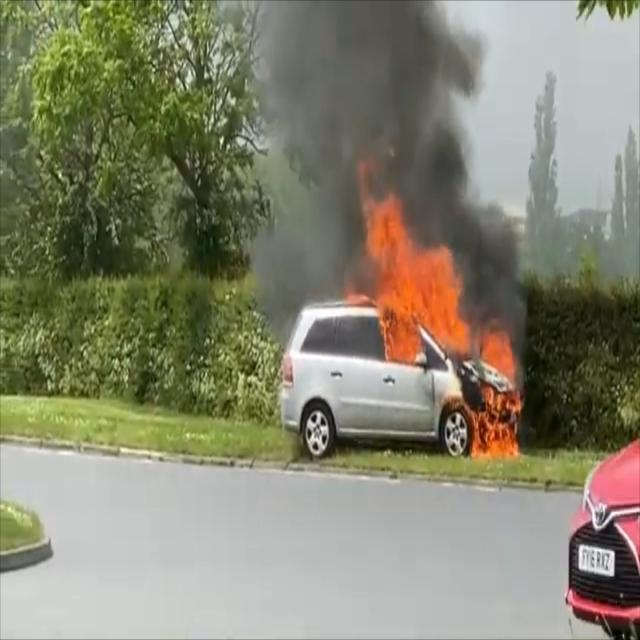fire: (356, 172, 524, 464)
